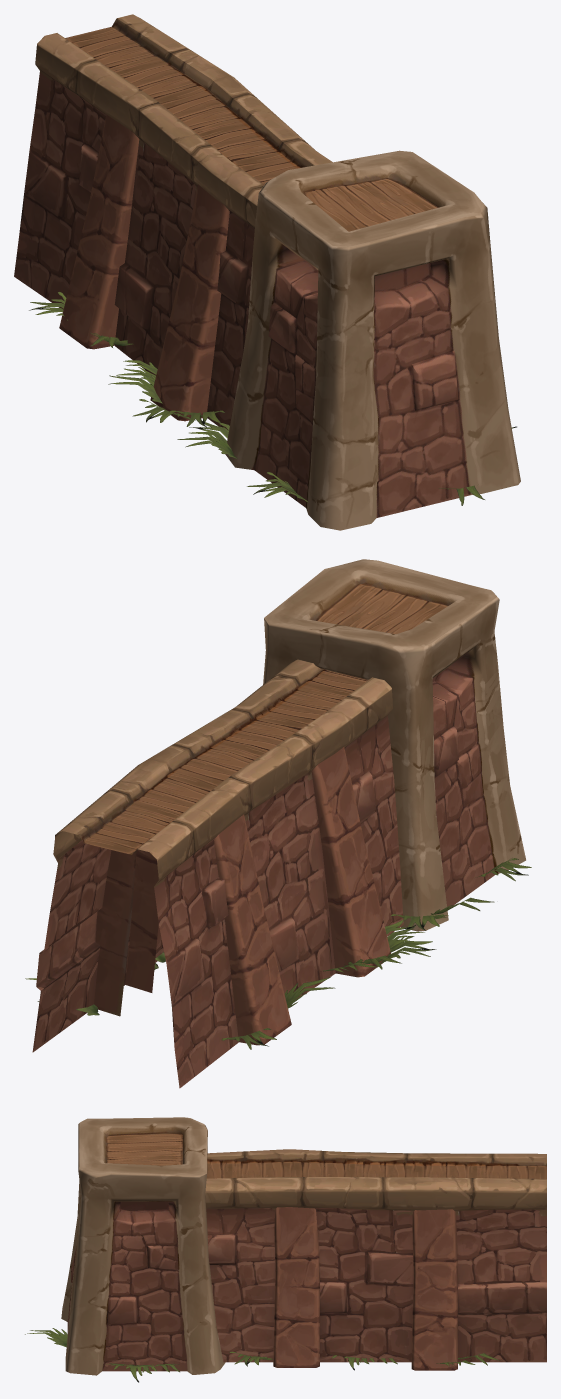
Rendered from Env_walls.fbx.
The picture shows the model from 3 angles, top to bottom: view 1: azimuth 30°, elevation 25°; view 2: azimuth 150°, elevation 25°; view 3: azimuth 270°, elevation 25°; orthographic projection. The views are drawn at different scales.
Visible parts, largest first — view 1: Walls_tower_geom, Walls_wall_geom, Walls_wall_grass, Walls_tower_grass; view 2: Walls_wall_geom, Walls_tower_geom, Walls_wall_grass, Walls_tower_grass; view 3: Walls_wall_geom, Walls_tower_geom, Walls_tower_grass, Walls_wall_grass.
Boxes of the visible parts, x1=… form: Walls_tower_geom: x1=225, y1=150, x2=520, y2=530; Walls_wall_geom: x1=14, y1=14, x2=332, y2=430; Walls_wall_grass: x1=29, y1=291, x2=224, y2=427; Walls_tower_grass: x1=177, y1=421, x2=516, y2=505; Walls_wall_geom: x1=32, y1=659, x2=403, y2=1088; Walls_tower_geom: x1=263, y1=559, x2=525, y2=931; Walls_wall_grass: x1=25, y1=920, x2=436, y2=1049; Walls_tower_grass: x1=390, y1=858, x2=531, y2=930; Walls_wall_geom: x1=205, y1=1149, x2=546, y2=1370; Walls_tower_geom: x1=61, y1=1117, x2=225, y2=1375; Walls_tower_grass: x1=25, y1=1328, x2=179, y2=1382; Walls_wall_grass: x1=229, y1=1351, x2=500, y2=1370.
Bounding box in the file's own units: 1109 × 933 × 2273.
Materials: 3 (3 with a texture image).
